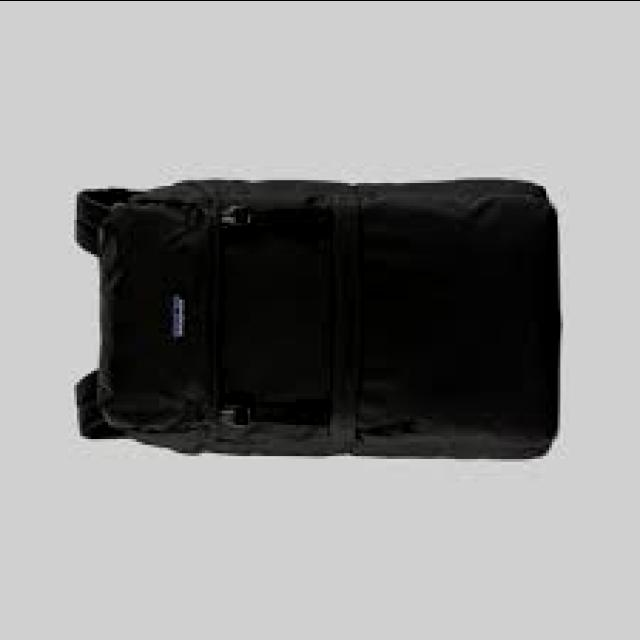backpack: (72, 178, 561, 462)
